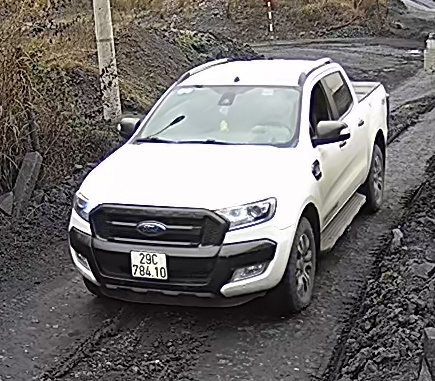vehicle plate: (129, 245, 166, 281)
